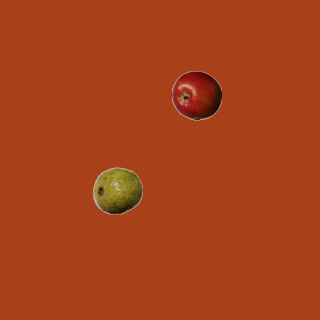Apple Braeburn: (171, 70, 221, 120)
Guava: (92, 165, 142, 215)
